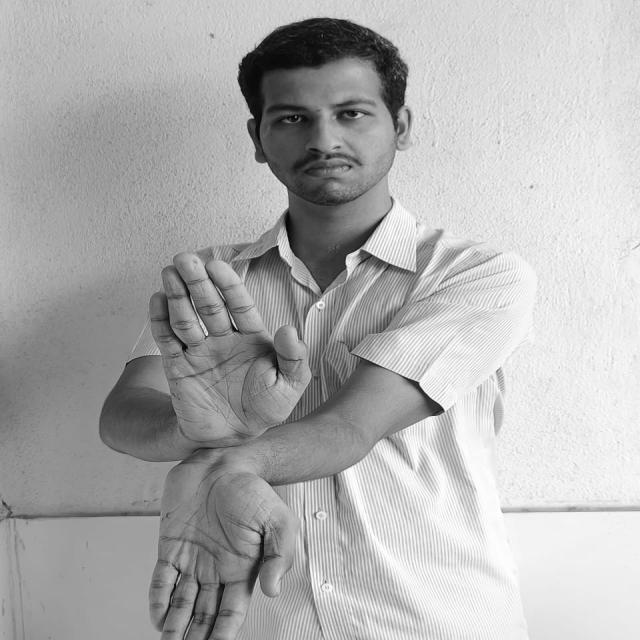Morning: (145, 251, 306, 640)
